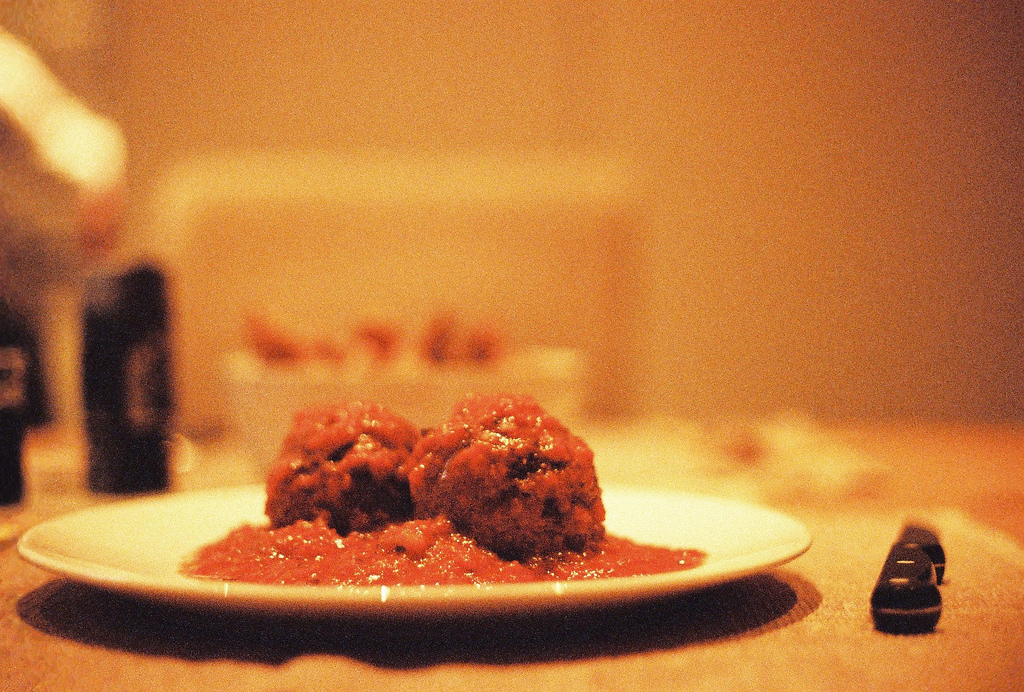meatballs: (299, 407, 581, 538)
